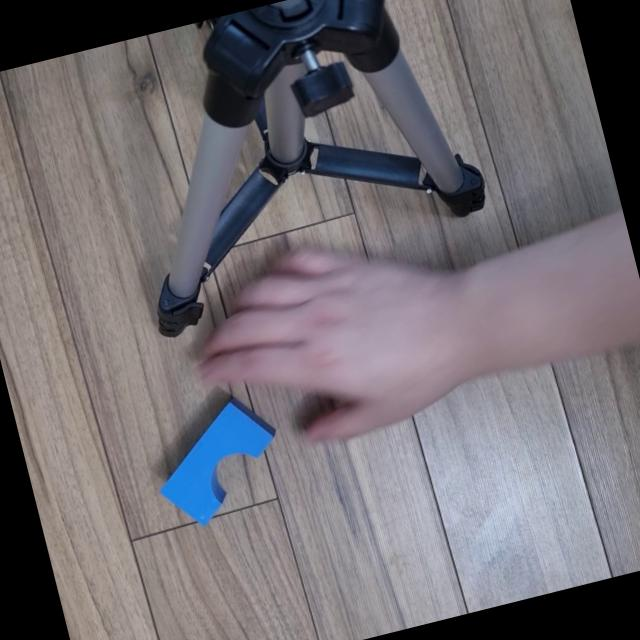block: (131, 385, 297, 541)
hand: (170, 213, 498, 454)
